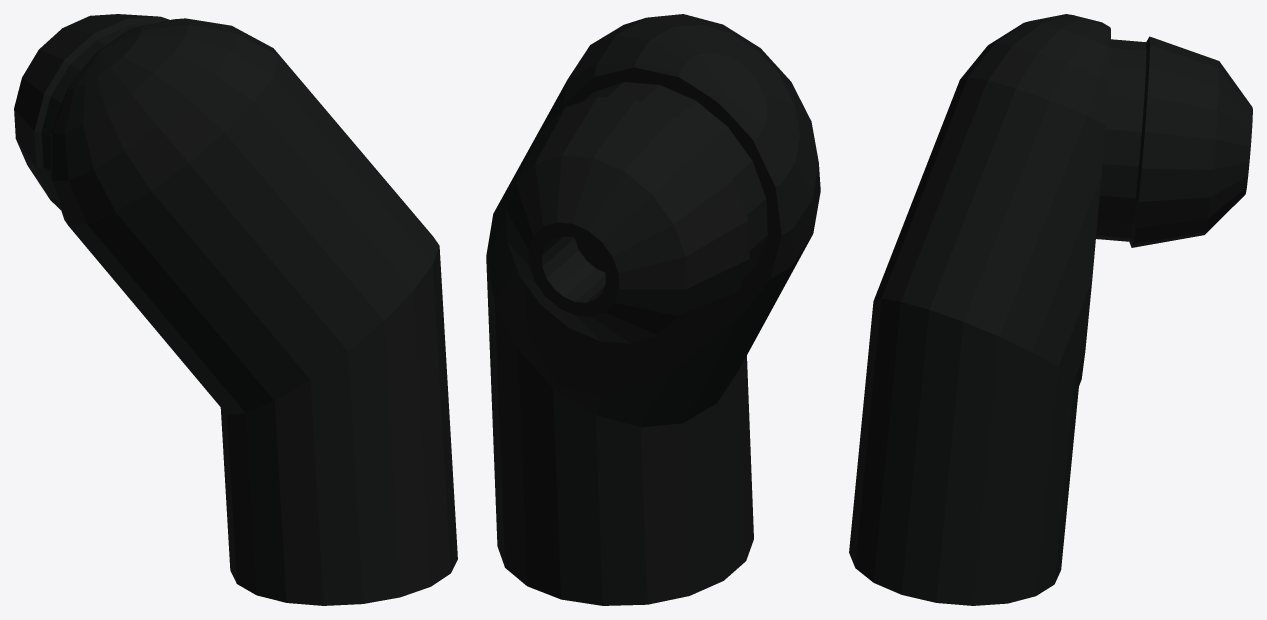
The model's file is LeoDart_left_arm.obj.
The picture shows the model from 3 angles, left to right: view 1: azimuth 30°, elevation 25°; view 2: azimuth 150°, elevation 25°; view 3: azimuth 270°, elevation 25°; orthographic projection. The views are drawn at different scales.
Visible parts, largest first — view 1: Cylinder02; view 2: Cylinder02; view 3: Cylinder02.
Part boxes in pixels (x1,y1,x2,y2): Cylinder02: (14, 14, 457, 605); Cylinder02: (486, 14, 820, 605); Cylinder02: (849, 14, 1252, 605).
Size of the model in its own units: 0.644 by 1.03 by 0.7587.
1 material, 1 textured.
